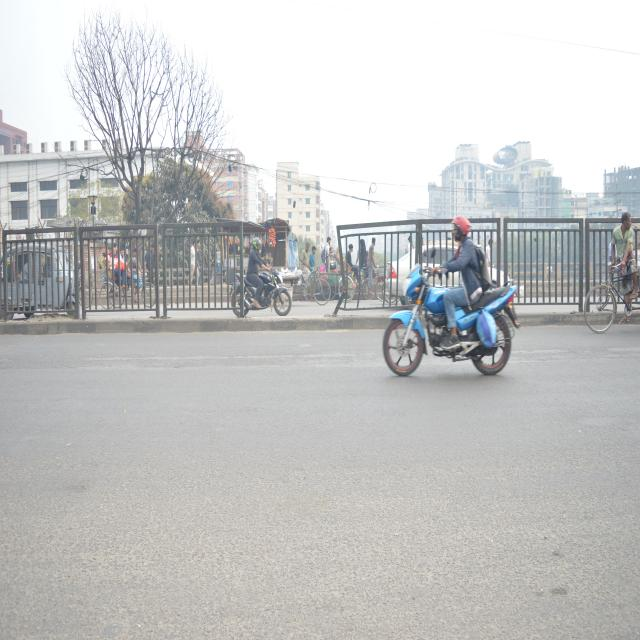motorbike: (371, 260, 525, 388), (225, 270, 294, 321)
